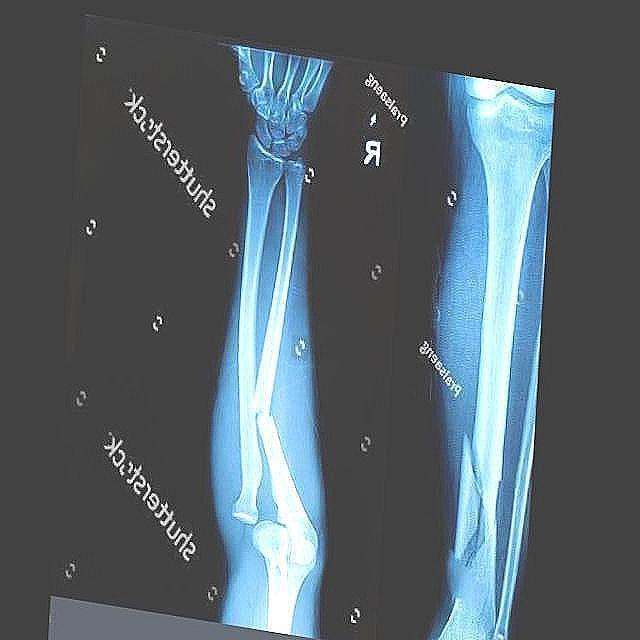bone: (460, 361, 513, 563), (231, 335, 301, 451)
